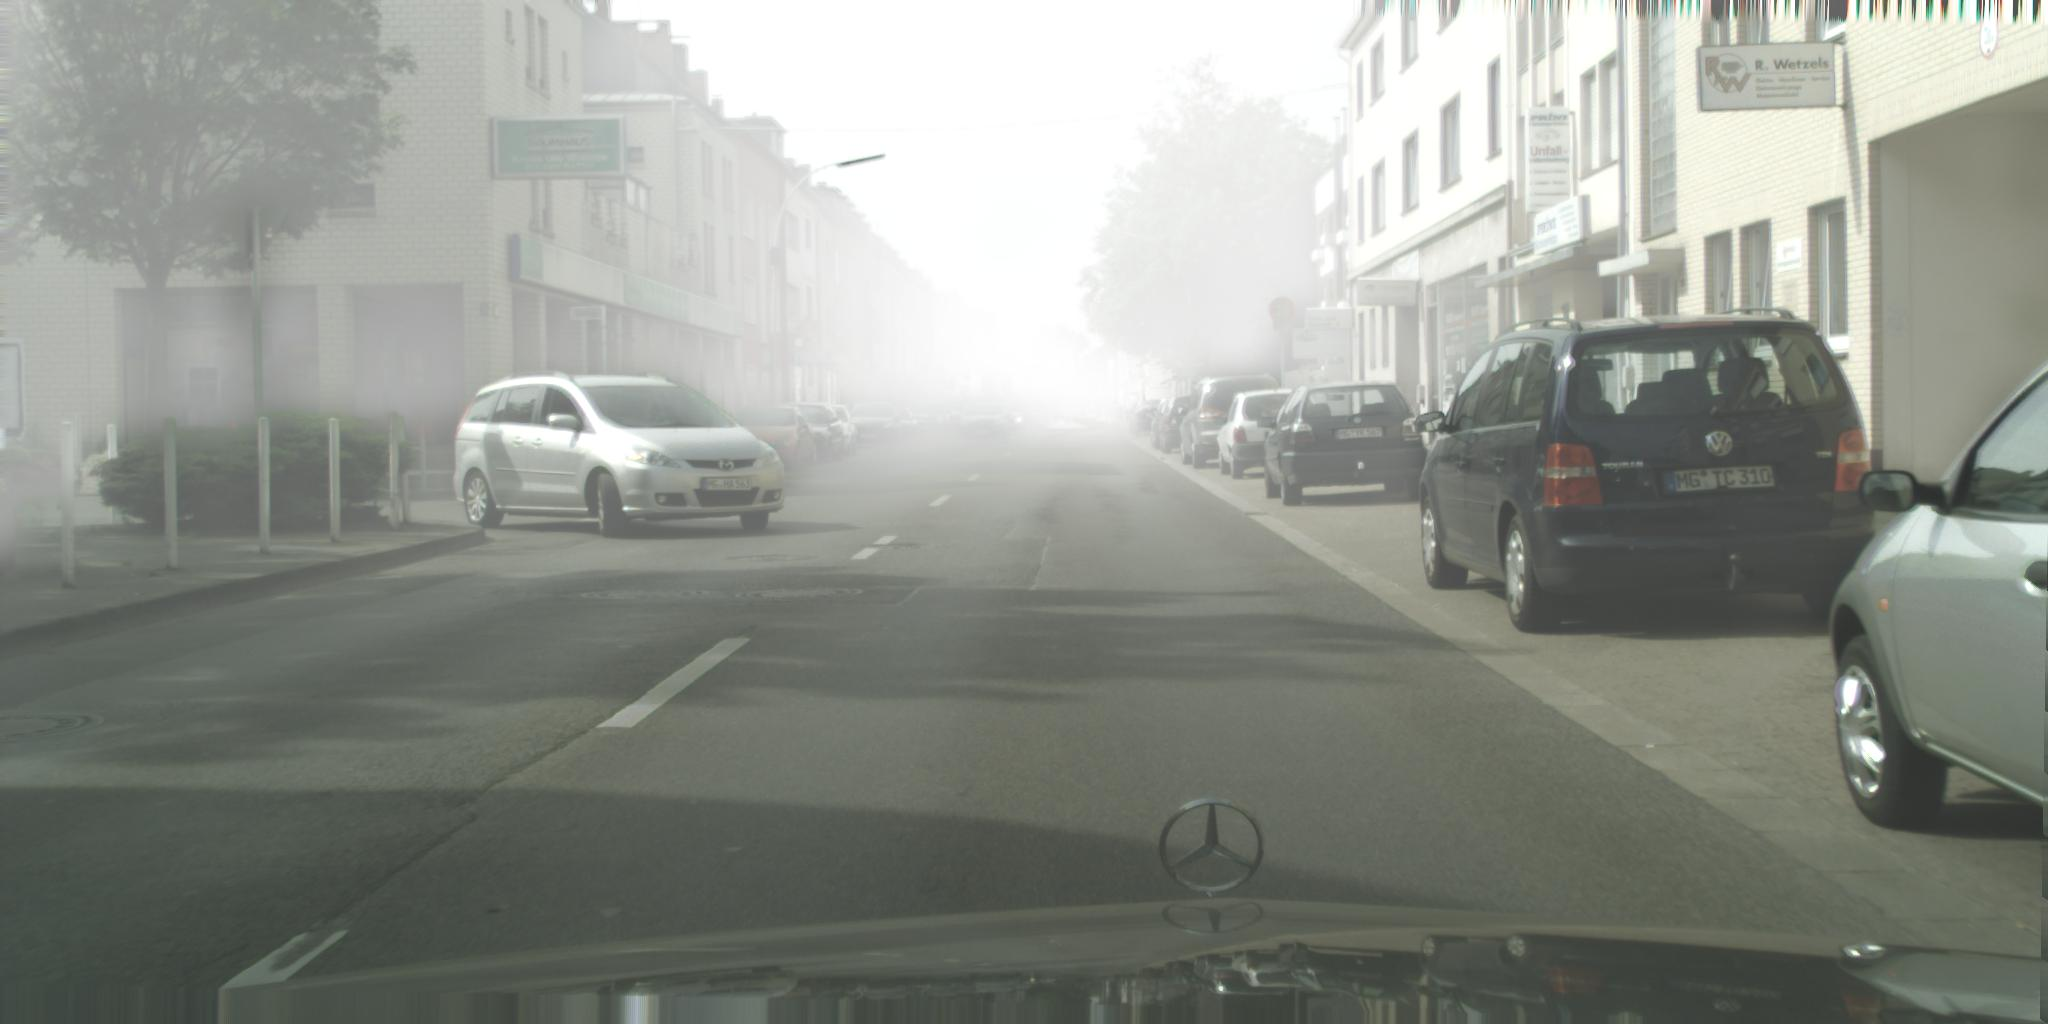car: (1415, 310, 1898, 635), (1829, 357, 2048, 829), (453, 371, 788, 539), (1258, 380, 1435, 508), (1179, 374, 1284, 470), (1219, 389, 1298, 481), (733, 405, 819, 472), (778, 404, 846, 465), (1160, 394, 1209, 455), (846, 402, 903, 449), (953, 402, 1014, 445), (819, 405, 859, 458), (1147, 398, 1183, 451), (910, 400, 953, 438), (1127, 401, 1166, 438), (886, 408, 921, 445), (993, 404, 1031, 435), (942, 400, 974, 434)
